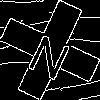N: (25, 25, 78, 82)
